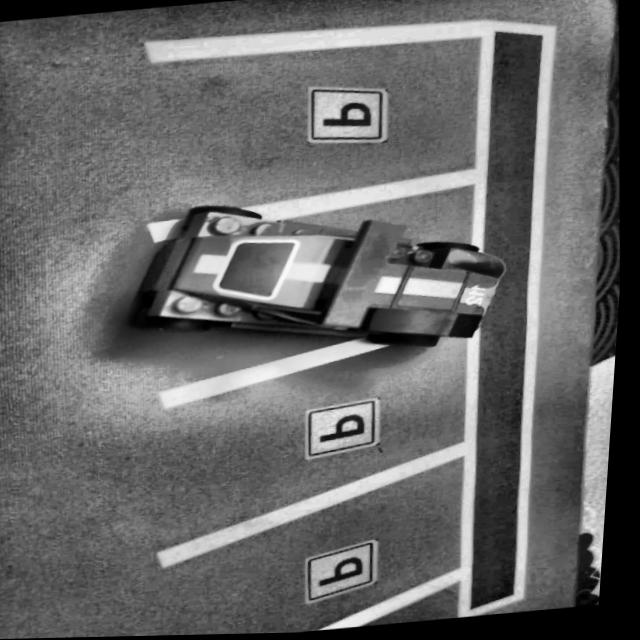car: (126, 181, 520, 375)
